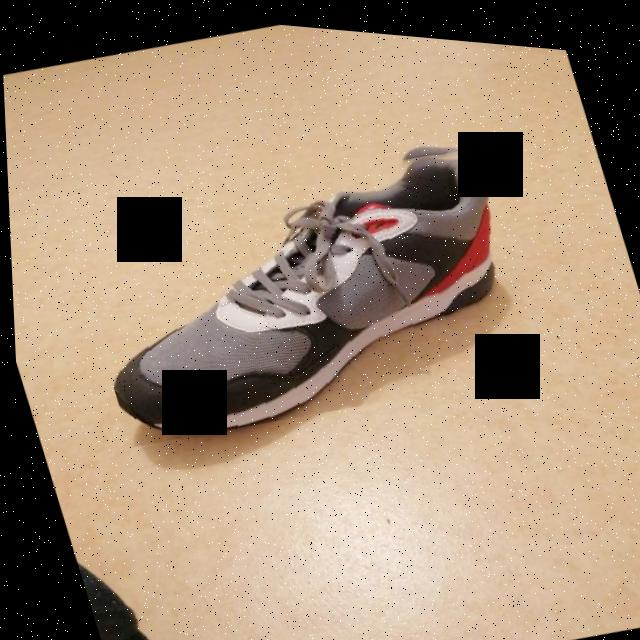shoe: (54, 98, 545, 474)
